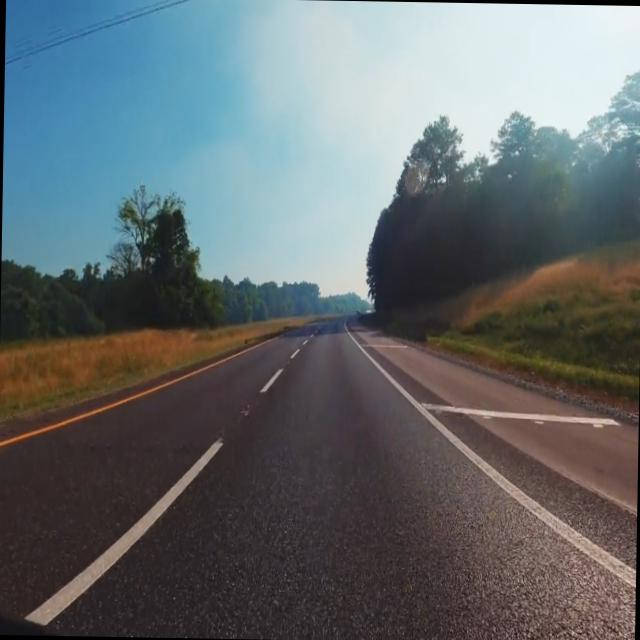asphalt: (0, 318, 638, 640)
